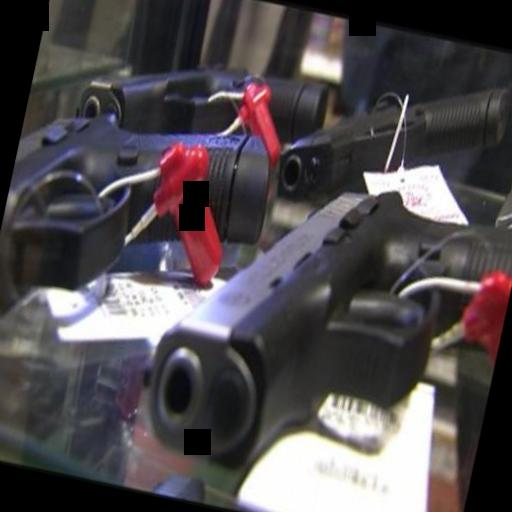Handgun: (117, 131, 512, 502)
